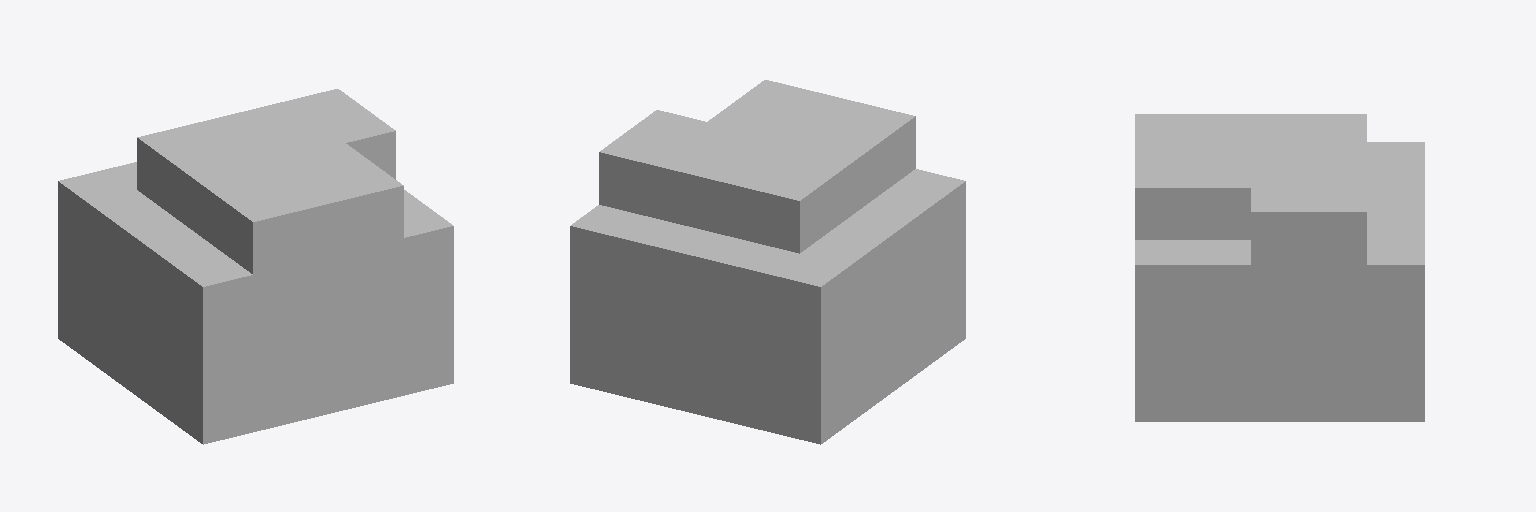
The model's file is Stone.obj.
3 views of the same model, side by side, from view 1: azimuth 30°, elevation 25°; view 2: azimuth 150°, elevation 25°; view 3: azimuth 270°, elevation 25° (orthographic).
Visible parts, largest first — view 1: Stone; view 2: Stone; view 3: Stone.
Part boxes in pixels (bbox=[...]): Stone: bbox=[58, 89, 453, 444]; Stone: bbox=[570, 80, 965, 444]; Stone: bbox=[1135, 114, 1424, 421].
Bounding box in the file's own units: 0.5 × 0.4 × 0.5.